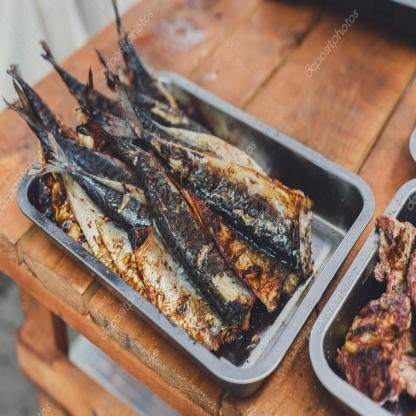Peixe: (29, 18, 294, 344)
